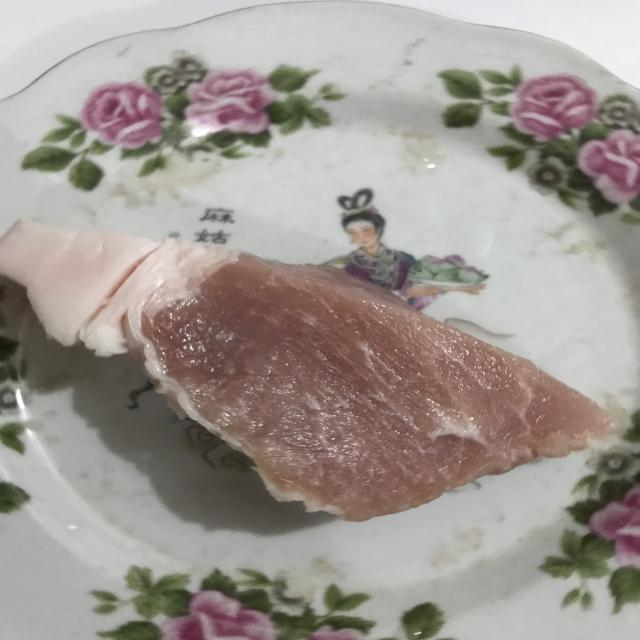chicken: (0, 224, 609, 506)
